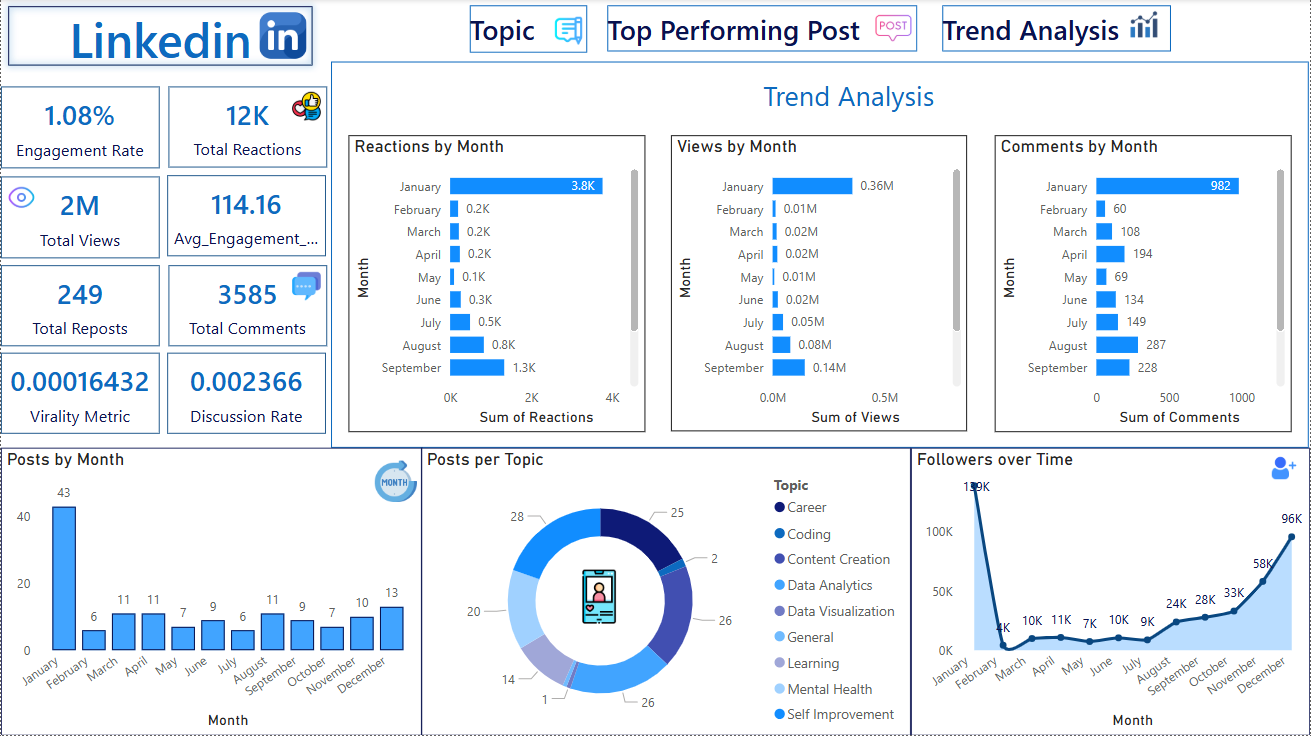

The dashboard page shown, as its layout file describes it:
{"tool":"powerbi","page":{"name":"Linkdin Dashoard","canvas":[1280,720],"ordinal":1},"visuals":[{"type":"group","id":"g1","title":"Group 8","box":[458.6,0,686.5,52.8],"z":0,"group":"g10"},{"type":"group","id":"g2","title":"Group 3","box":[458.6,6.3,686.5,46.5],"z":0,"group":"g1"},{"type":"shape","box":[458.6,6.3,114.9,46.5],"z":0,"group":"g2"},{"type":"shape","box":[323.2,60.6,956.6,378],"z":0,"group":"g5"},{"type":"group","id":"g3","title":"Group 1","box":[0,85.6,319.2,339.9],"z":0,"group":"g6"},{"type":"card","fields":{"Values":["Linkdin Data.Engagement Rate"]},"box":[0,85.6,155,80],"z":0,"group":"g3"},{"type":"barChart","title":"Reactions by Month","fields":{"Y":["Sum(Linkdin Data.Reactions)"],"Category":["Linkdin Data.Date.Variation.Date Hierarchy.Month"]},"box":[340.5,132.8,290,290],"z":0,"group":"g4"},{"type":"columnChart","title":"Posts by Month","fields":{"Category":["Linkdin Data.Date.Variation.Date Hierarchy.Month"],"Y":["CountNonNull(Linkdin Data.Link to Post)"]},"box":[0,439,412.1,281.3],"z":0,"group":"g9"},{"type":"donutChart","title":"Posts per Topic","fields":{"Category":["Linkdin Data.Topic"],"Y":["CountNonNull(Linkdin Data.Description)"]},"box":[410.9,439,479.4,281.3],"z":0,"group":"g7"},{"type":"lineChart","title":"Followers over Time","fields":{"Category":["Linkdin Data.Date.Variation.Date Hierarchy.Quarter","Linkdin Data.Date.Variation.Date Hierarchy.Month","Linkdin Data.Date.Variation.Date Hierarchy.Day"],"Y":["Sum(Linkdin Data.Followers)"]},"box":[890.2,439,390.1,281.3],"z":0,"group":"g8"},{"type":"image","box":[1098.1,0,40.4,48.9],"z":1000,"group":"g1"},{"type":"shape","box":[593.1,6.3,303.3,45.2],"z":1000,"group":"g2"},{"type":"image","box":[849.9,6.5,46.5,45.2],"z":1000,"group":"g10"},{"type":"group","id":"g4","title":"Group 2","box":[340.5,70.3,922.2,352.5],"z":1000,"group":"g5"},{"type":"image","box":[280,84.4,37.9,41.6],"z":1000,"group":"g6"},{"type":"barChart","title":"Views by Month","fields":{"Y":["Sum(Linkdin Data.Views)"],"Category":["Linkdin Data.Date.Variation.Date Hierarchy.Month"]},"box":[656.5,132.8,290,290],"z":1000,"group":"g4"},{"type":"card","fields":{"Values":["Linkdin Data.Total Views"]},"box":[0,173.6,155.3,80],"z":1000,"group":"g3"},{"type":"image","box":[1230.1,440.2,50.1,36.7],"z":1000,"group":"g8"},{"type":"image","box":[359.7,443.7,53.8,54.5],"z":1000,"group":"g9"},{"type":"image","box":[554,547.8,62.4,73.4],"z":1000,"group":"g7"},{"type":"shape","box":[921.4,6.3,223.8,45.2],"z":2000,"group":"g2"},{"type":"group","id":"g5","title":"Timee","box":[323.2,60.6,956.6,378],"z":2000},{"type":"barChart","title":"Comments by Month","fields":{"Y":["Sum(Linkdin Data.Comments)"],"Category":["Linkdin Data.Date.Variation.Date Hierarchy.Month"]},"box":[972.7,132.2,290,290],"z":2000,"group":"g4"},{"type":"card","fields":{"Values":["Linkdin Data.Avg_Engagement_PP"]},"box":[162.6,172.4,155.3,79.5],"z":2000,"group":"g3"},{"type":"image","box":[1.2,173.7,37.9,40.4],"z":2000,"group":"g6"},{"type":"shape","box":[0,0,311.8,72.1],"z":3000},{"type":"textbox","box":[527.6,70.3,604.5,50.5],"z":3000,"group":"g4"},{"type":"card","fields":{"Values":["Linkdin Data.Total Reactions"]},"box":[163.9,85.6,155.3,79.5],"z":3000,"group":"g3"},{"type":"image","box":[280,260.5,37.9,40.4],"z":3000,"group":"g6"},{"type":"image","box":[248.2,7.3,55,56.3],"z":4000},{"type":"card","fields":{"Values":["Linkdin Data.Total Comments"]},"box":[163.9,260.5,155.3,79.5],"z":4000,"group":"g3"},{"type":"group","id":"g6","title":"Group 4","box":[0,84.4,319.2,341.2],"z":5000},{"type":"card","fields":{"Values":["Linkdin Data.Total Reposts"]},"box":[0,260.5,155.3,79.5],"z":5000,"group":"g3"},{"type":"card","fields":{"Values":["Linkdin Data.Virality Metric"]},"box":[0,346.1,155.3,79.5],"z":6000,"group":"g3"},{"type":"group","id":"g7","title":"Group 5","box":[410.9,439,479.4,281.3],"z":6000},{"type":"card","fields":{"Values":["Linkdin Data.Discussion Rate"]},"box":[162.6,346.1,155.3,79.5],"z":7000,"group":"g3"},{"type":"group","id":"g8","title":"Group 6","box":[890.2,439,390.1,281.3],"z":7000},{"type":"group","id":"g9","title":"Group 7","box":[0,439,413.3,281.3],"z":8000},{"type":"group","id":"g10","title":"Group 9","box":[458.6,0,686.5,52.8],"z":9000,"group":"g11"},{"type":"image","box":[537.4,8.6,36.7,44],"z":10000,"group":"g11"},{"type":"group","id":"g11","title":"Group 10","box":[458.6,0,686,52.6],"z":10001}]}

Visuals, with their boxes in screenshot pixels (x1, y1, x2, y2), scaled from the page's 1280x720 canvas onto the 1311x736 screenshot:
"Group 8" group: (x1=470, y1=0, x2=1173, y2=54)
"Group 3" group: (x1=470, y1=6, x2=1173, y2=54)
shape: (x1=470, y1=6, x2=587, y2=54)
shape: (x1=331, y1=62, x2=1310, y2=448)
"Group 1" group: (x1=0, y1=88, x2=327, y2=435)
card - Linkdin Data.Engagement Rate: (x1=0, y1=88, x2=159, y2=169)
"Reactions by Month" barChart: (x1=349, y1=136, x2=646, y2=432)
"Posts by Month" columnChart: (x1=0, y1=449, x2=422, y2=735)
"Posts per Topic" donutChart: (x1=421, y1=449, x2=912, y2=735)
"Followers over Time" lineChart: (x1=912, y1=449, x2=1310, y2=735)
image: (x1=1125, y1=0, x2=1166, y2=50)
shape: (x1=607, y1=6, x2=918, y2=53)
image: (x1=870, y1=7, x2=918, y2=53)
"Group 2" group: (x1=349, y1=72, x2=1293, y2=432)
image: (x1=287, y1=86, x2=326, y2=129)
"Views by Month" barChart: (x1=672, y1=136, x2=969, y2=432)
card - Linkdin Data.Total Views: (x1=0, y1=177, x2=159, y2=259)
image: (x1=1260, y1=450, x2=1310, y2=487)
image: (x1=368, y1=454, x2=424, y2=509)
image: (x1=567, y1=560, x2=631, y2=635)
shape: (x1=944, y1=6, x2=1173, y2=53)
"Timee" group: (x1=331, y1=62, x2=1310, y2=448)
"Comments by Month" barChart: (x1=996, y1=135, x2=1293, y2=432)
card - Linkdin Data.Avg_Engagement_PP: (x1=167, y1=176, x2=326, y2=257)
image: (x1=1, y1=178, x2=40, y2=219)
shape: (x1=0, y1=0, x2=319, y2=74)
textbox: (x1=540, y1=72, x2=1160, y2=123)
card - Linkdin Data.Total Reactions: (x1=168, y1=88, x2=327, y2=169)
image: (x1=287, y1=266, x2=326, y2=308)
image: (x1=254, y1=7, x2=311, y2=65)
card - Linkdin Data.Total Comments: (x1=168, y1=266, x2=327, y2=348)
"Group 4" group: (x1=0, y1=86, x2=327, y2=435)
card - Linkdin Data.Total Reposts: (x1=0, y1=266, x2=159, y2=348)
card - Linkdin Data.Virality Metric: (x1=0, y1=354, x2=159, y2=435)
"Group 5" group: (x1=421, y1=449, x2=912, y2=735)
card - Linkdin Data.Discussion Rate: (x1=167, y1=354, x2=326, y2=435)
"Group 6" group: (x1=912, y1=449, x2=1310, y2=735)
"Group 7" group: (x1=0, y1=449, x2=423, y2=735)
"Group 9" group: (x1=470, y1=0, x2=1173, y2=54)
image: (x1=550, y1=9, x2=588, y2=54)
"Group 10" group: (x1=470, y1=0, x2=1172, y2=54)
